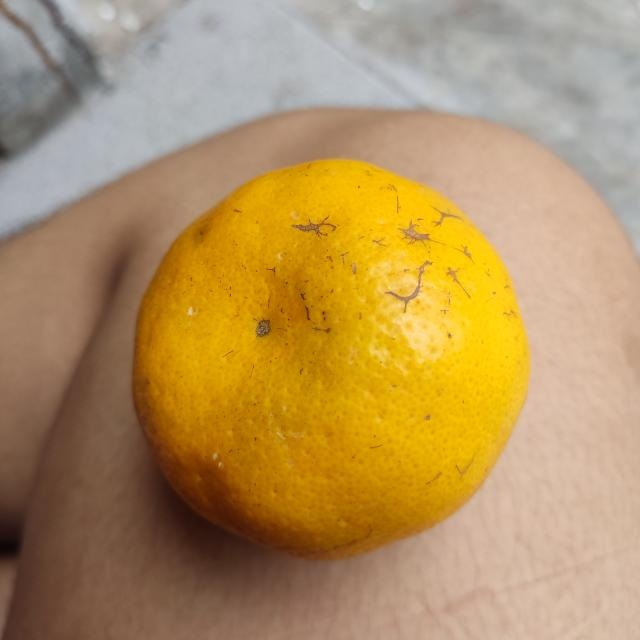agrume: (122, 152, 535, 562)
